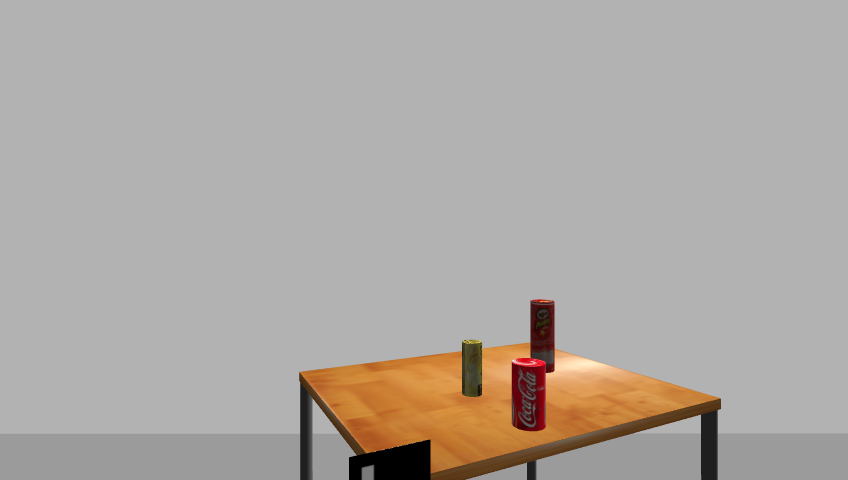aruco marker: (345, 439, 437, 480)
biscuits pack: (460, 339, 484, 398)
coke can: (509, 358, 548, 431)
dinner table: (289, 350, 731, 480)
pringles can: (528, 299, 557, 376)
